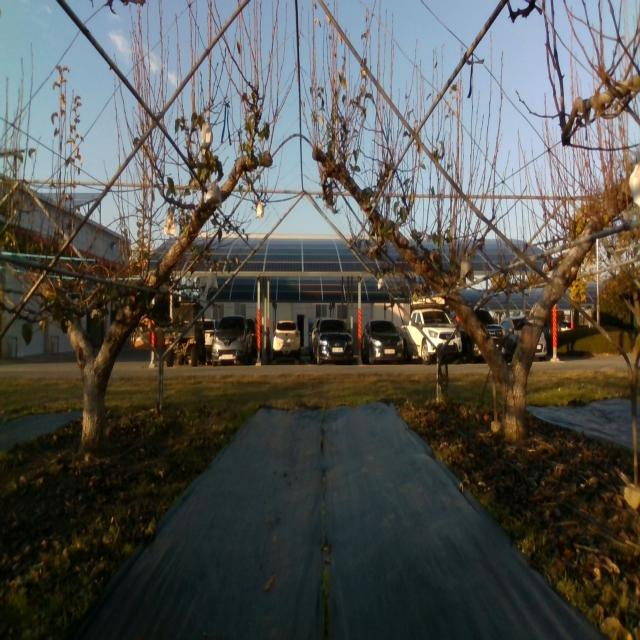pearbags: (206, 183, 222, 209), (163, 212, 176, 239), (201, 122, 213, 148), (461, 260, 474, 283)
